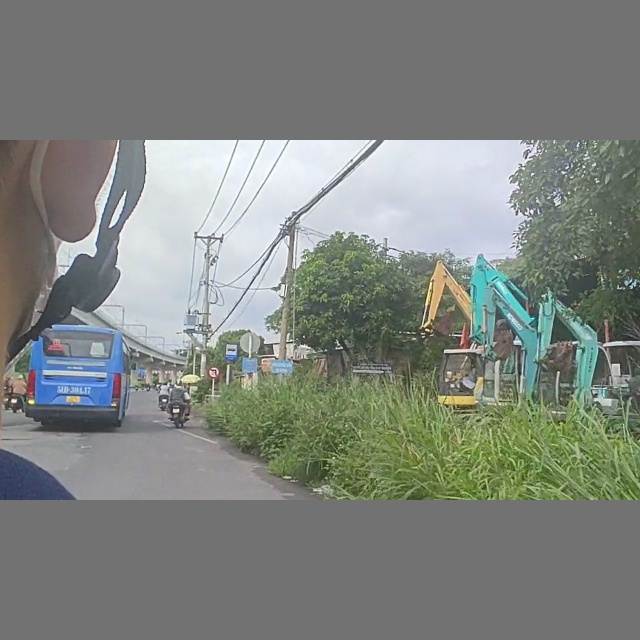I.434a: (225, 343, 239, 361)
P.123a: (207, 366, 221, 379)
